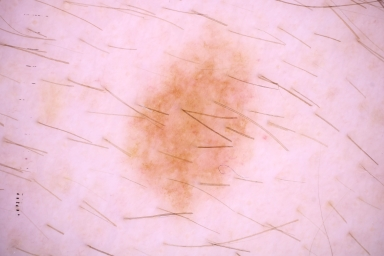nevus: (134, 55, 245, 210)
